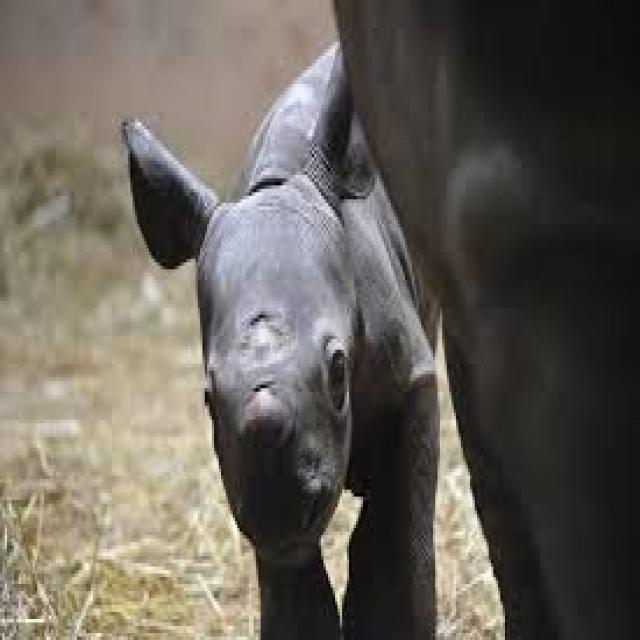rhinoceros: (121, 42, 433, 637)
